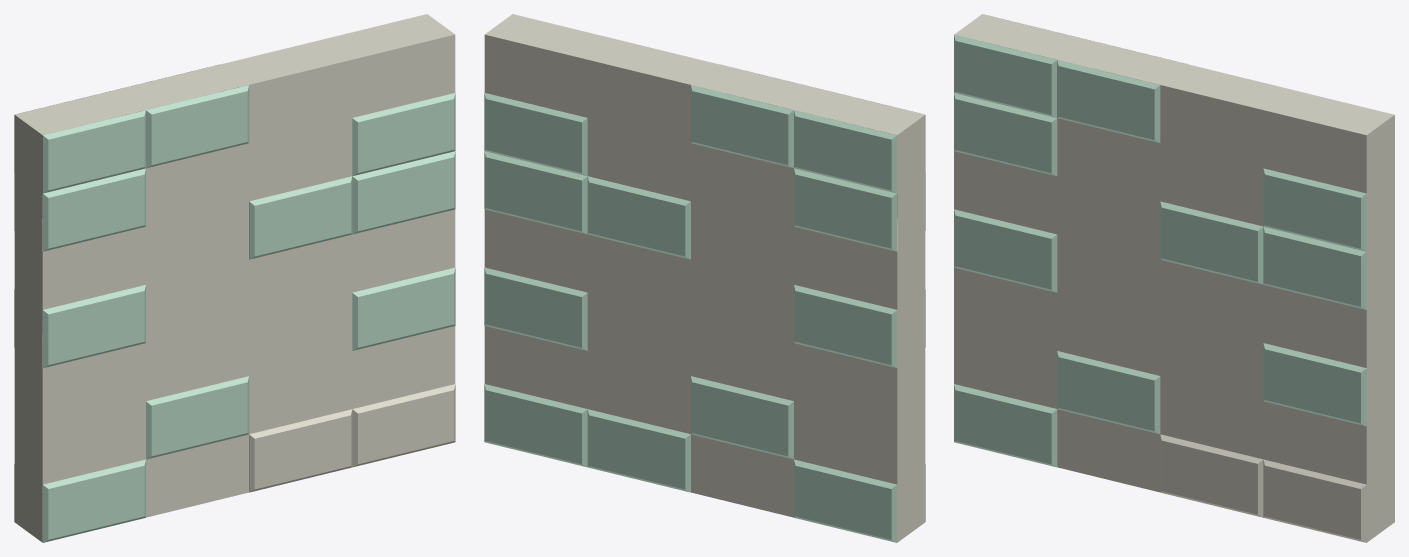
The model's file is Wall02_house3.fbx.
3 views of the same model, side by side, from view 1: azimuth 30°, elevation 25°; view 2: azimuth 150°, elevation 25°; view 3: azimuth 330°, elevation 25° (orthographic).
Visible parts, largest first — view 1: Wall02_house3; view 2: Wall02_house3; view 3: Wall02_house3.
Boxes of the visible parts, left/top/right/bottom form: Wall02_house3: left=14, top=14, right=455, bottom=542; Wall02_house3: left=484, top=14, right=925, bottom=542; Wall02_house3: left=954, top=14, right=1394, bottom=542.
Size of the model in its own units: 344 by 325 by 46.96.
